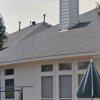Chimney: (53, 2, 87, 34)
